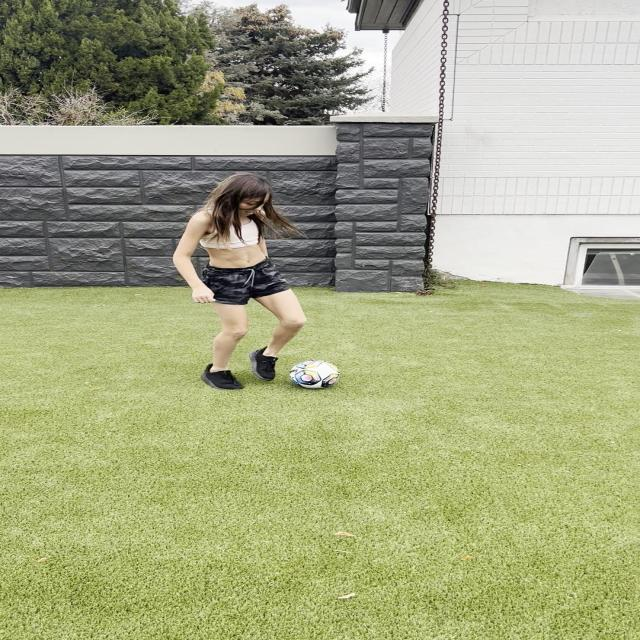Soccer Ball: (290, 360, 339, 390)
